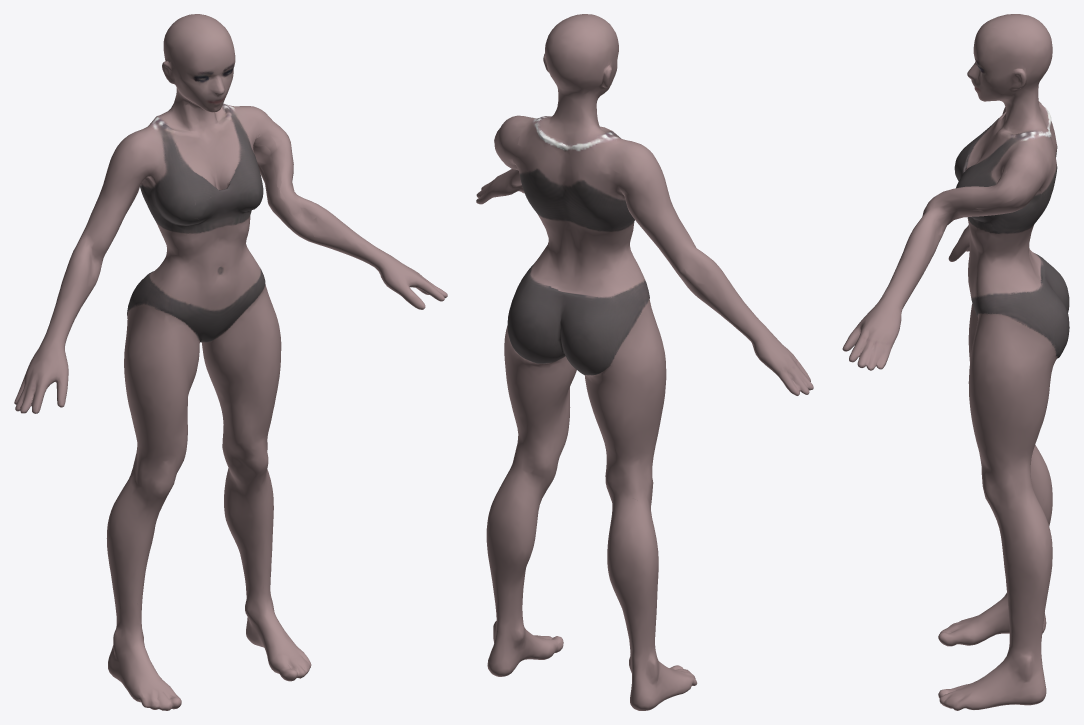
The model's file is 18-UpperArmR-60-child60-twist0-candidate.glb.
The picture shows the model from 3 angles, left to right: view 1: azimuth 30°, elevation 25°; view 2: azimuth 150°, elevation 25°; view 3: azimuth 270°, elevation 25°; orthographic projection. The views are drawn at different scales.
Visible parts, largest first — view 1: candidate; view 2: candidate; view 3: candidate.
Part boxes in pixels (x1,y1,x2,y2): candidate: (14, 14, 447, 710); candidate: (476, 14, 813, 710); candidate: (842, 14, 1069, 710).
Size of the model in its own units: 0.6038 by 1 by 0.3145.
Materials: 1 (1 with a texture image).
